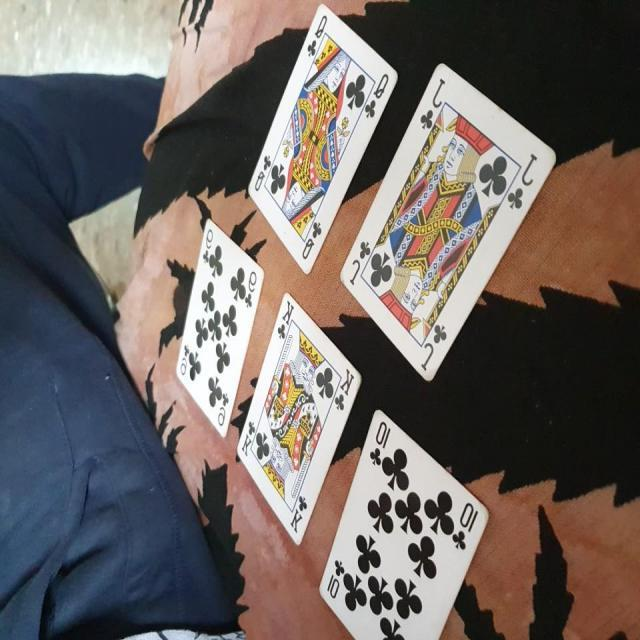10 of clubs: (318, 403, 493, 640)
9 of clubs: (176, 215, 267, 440)
jack of clubs: (338, 61, 556, 384)
king of clubs: (235, 292, 362, 546)
queen of clubs: (246, 4, 404, 273)
